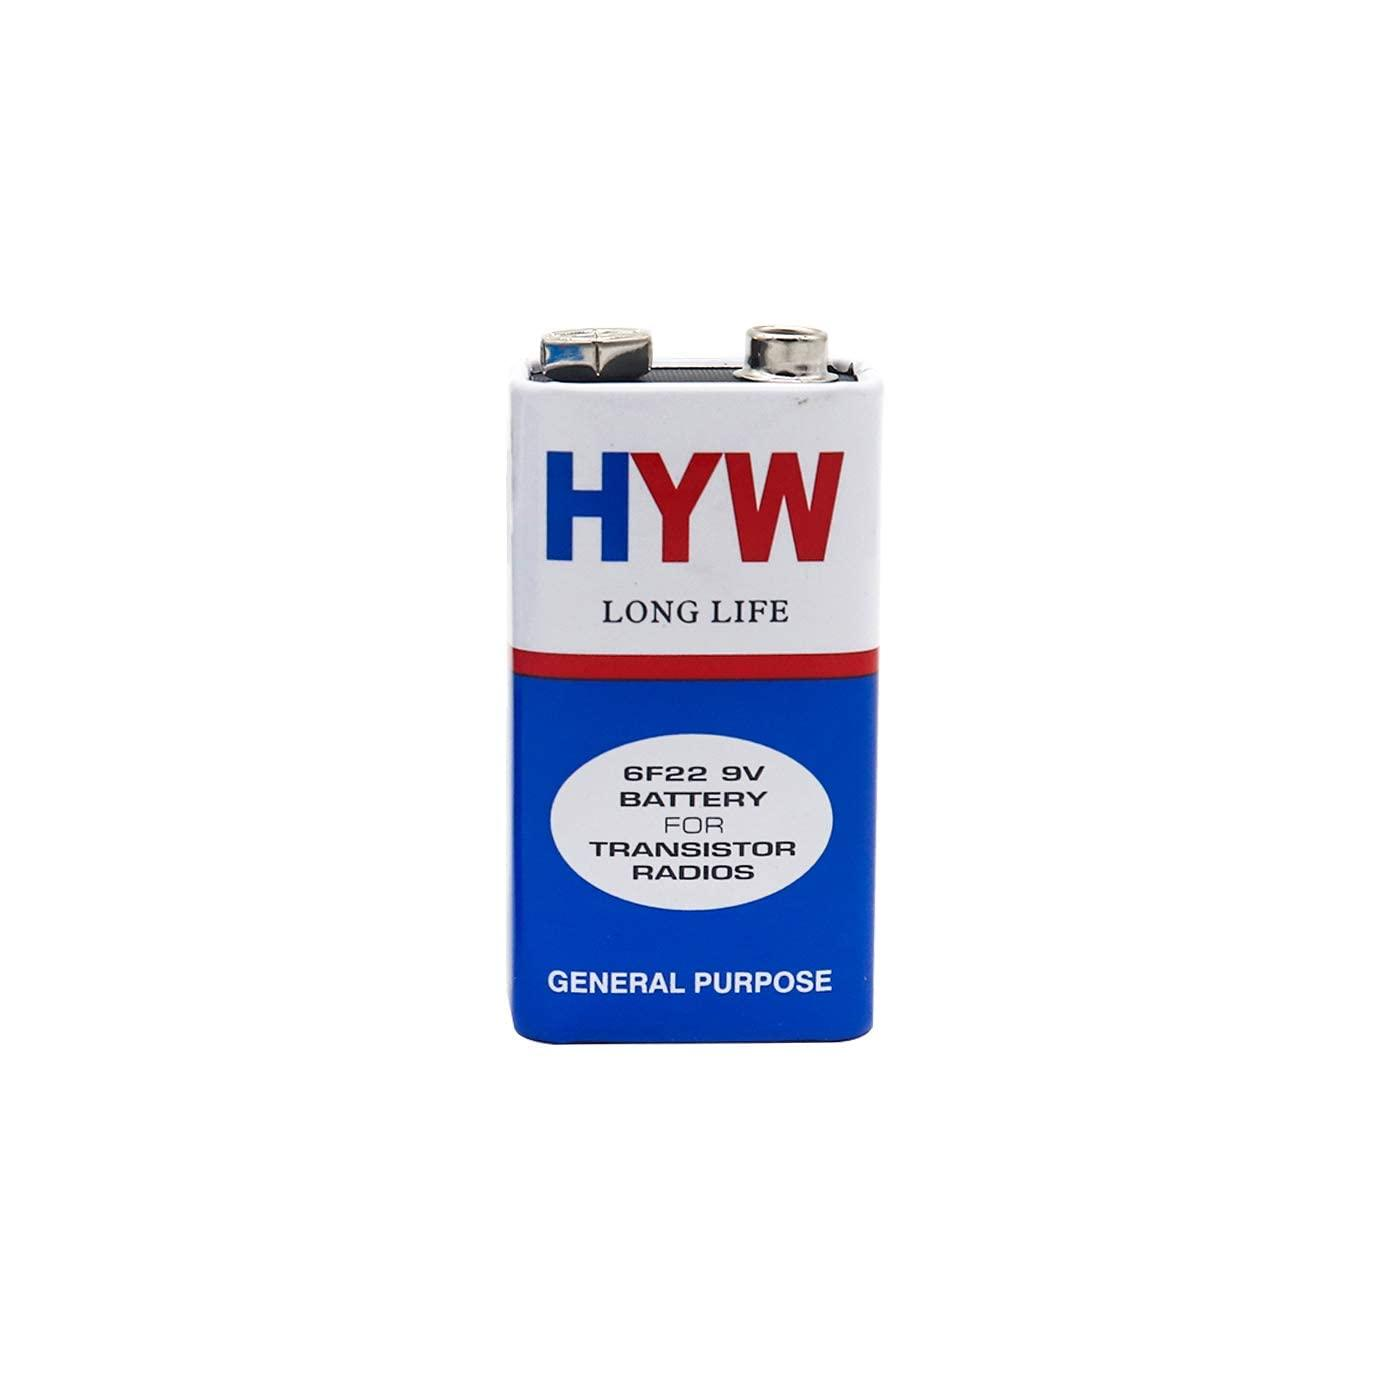9V Battery: (503, 314, 894, 1049)
